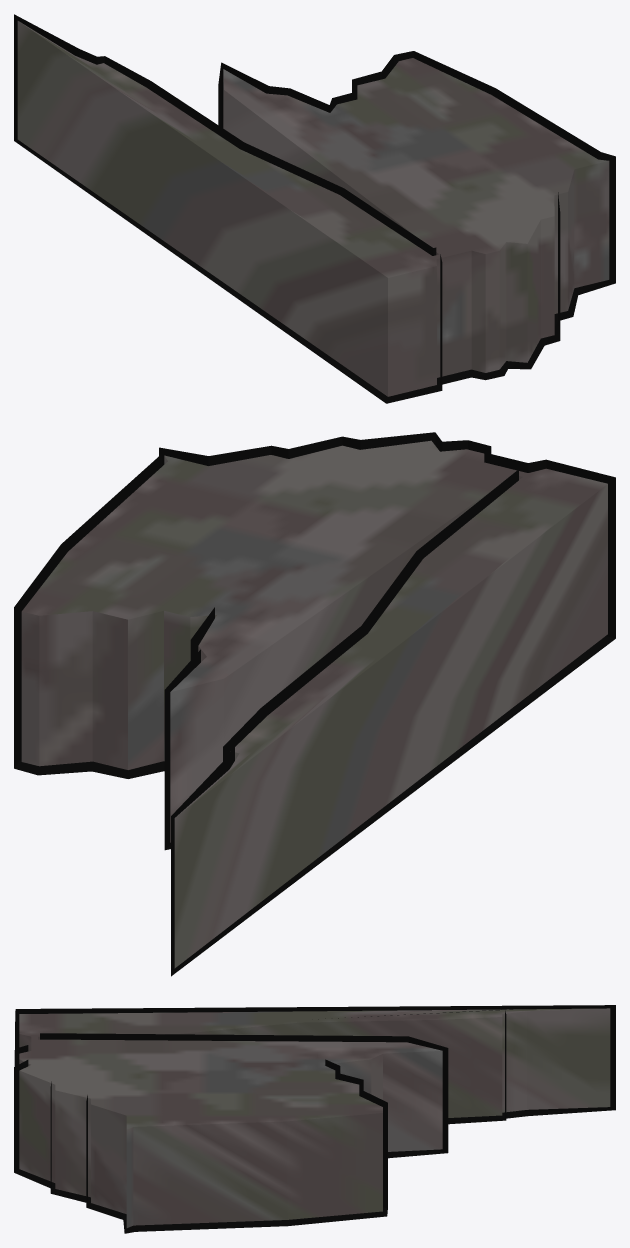
The model's file is Building_FloorEtchingRambling_Things_Filth_FloorEtchings_FloorEtchingO.glb.
3 views of the same model, one above another, from view 1: azimuth 30°, elevation 25°; view 2: azimuth 150°, elevation 25°; view 3: azimuth 270°, elevation 25° (orthographic). The views are drawn at different scales.
Parts seen in each view (by area): view 1: Body, Outline; view 2: Body, Outline; view 3: Body, Outline.
Boxes of the visible parts, x1=… form: Body: x1=17, y1=21, x2=609, y2=396; Outline: x1=14, y1=14, x2=615, y2=403; Body: x1=21, y1=440, x2=607, y2=968; Outline: x1=14, y1=432, x2=615, y2=976; Body: x1=19, y1=1008, x2=610, y2=1227; Outline: x1=14, y1=1005, x2=615, y2=1233.
Size of the model in its own units: 0.6846 by 0.2844 by 1.41.
2 materials, 1 textured.
